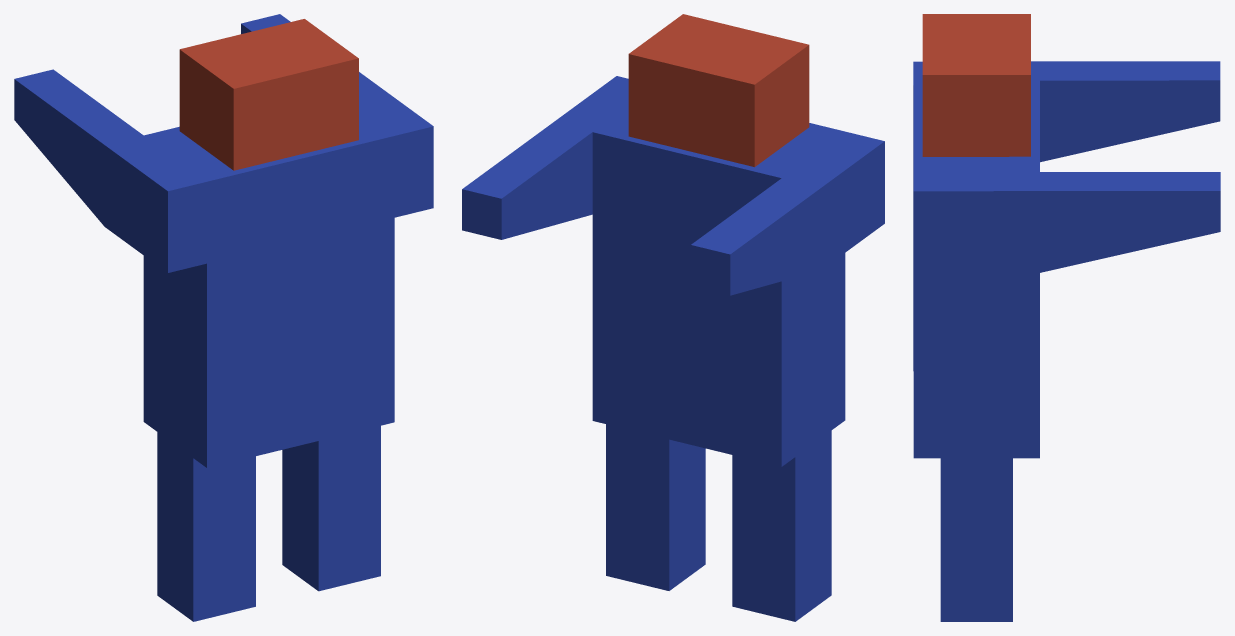
The model's file is player.obj.
3 views of the same model, side by side, from view 1: azimuth 30°, elevation 25°; view 2: azimuth 150°, elevation 25°; view 3: azimuth 270°, elevation 25° (orthographic).
Parts seen in each view (by area): view 1: Cube1_default2, Cube1_default3; view 2: Cube1_default2, Cube1_default3; view 3: Cube1_default2, Cube1_default3.
Boxes of the visible parts, bbox=[...] form: Cube1_default2: bbox=[14, 14, 433, 621]; Cube1_default3: bbox=[179, 19, 358, 170]; Cube1_default2: bbox=[462, 76, 884, 621]; Cube1_default3: bbox=[628, 14, 809, 167]; Cube1_default2: bbox=[913, 61, 1220, 621]; Cube1_default3: bbox=[922, 14, 1030, 156].
Size of the model in its own units: 0.8506 by 1.62 by 0.8506.
